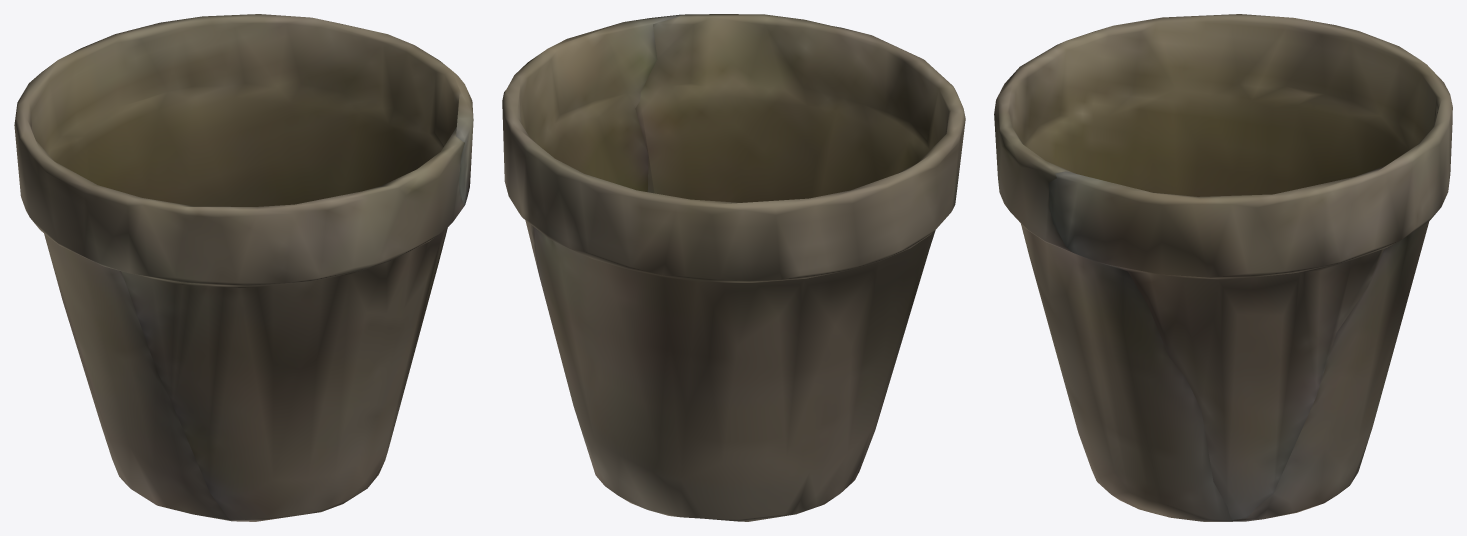
File: Cole_Hardware_Flower_Pot_1025-medium.glb
The picture shows the model from 3 angles, left to right: view 1: azimuth 30°, elevation 25°; view 2: azimuth 150°, elevation 25°; view 3: azimuth 270°, elevation 25°; orthographic projection.
Parts seen in each view (by area): view 1: Cole_Hardware_Flower_Pot_1025; view 2: Cole_Hardware_Flower_Pot_1025; view 3: Cole_Hardware_Flower_Pot_1025.
Part boxes in pixels (box(x1,y1,x2,y2)): Cole_Hardware_Flower_Pot_1025: box(14, 14, 473, 521); Cole_Hardware_Flower_Pot_1025: box(502, 14, 965, 521); Cole_Hardware_Flower_Pot_1025: box(994, 14, 1452, 521).
Size of the model in its own units: 0.2494 by 0.2168 by 0.246.
1 material, 1 textured.
